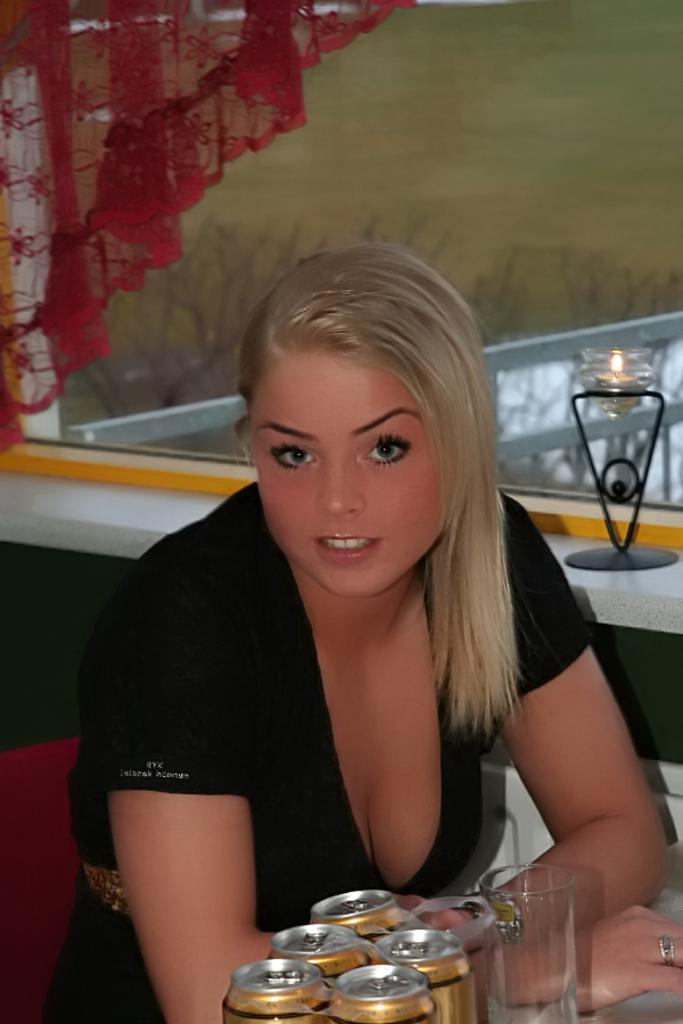Sem Máscara: (243, 345, 441, 596)
